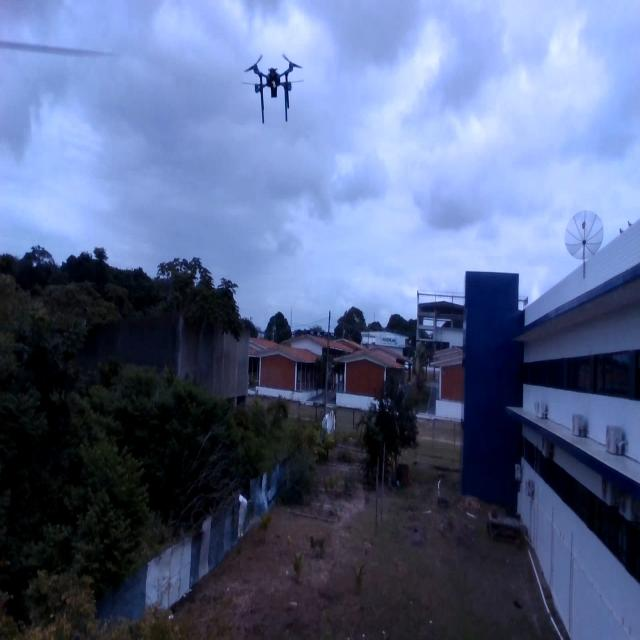-uav-: (236, 44, 307, 132)
